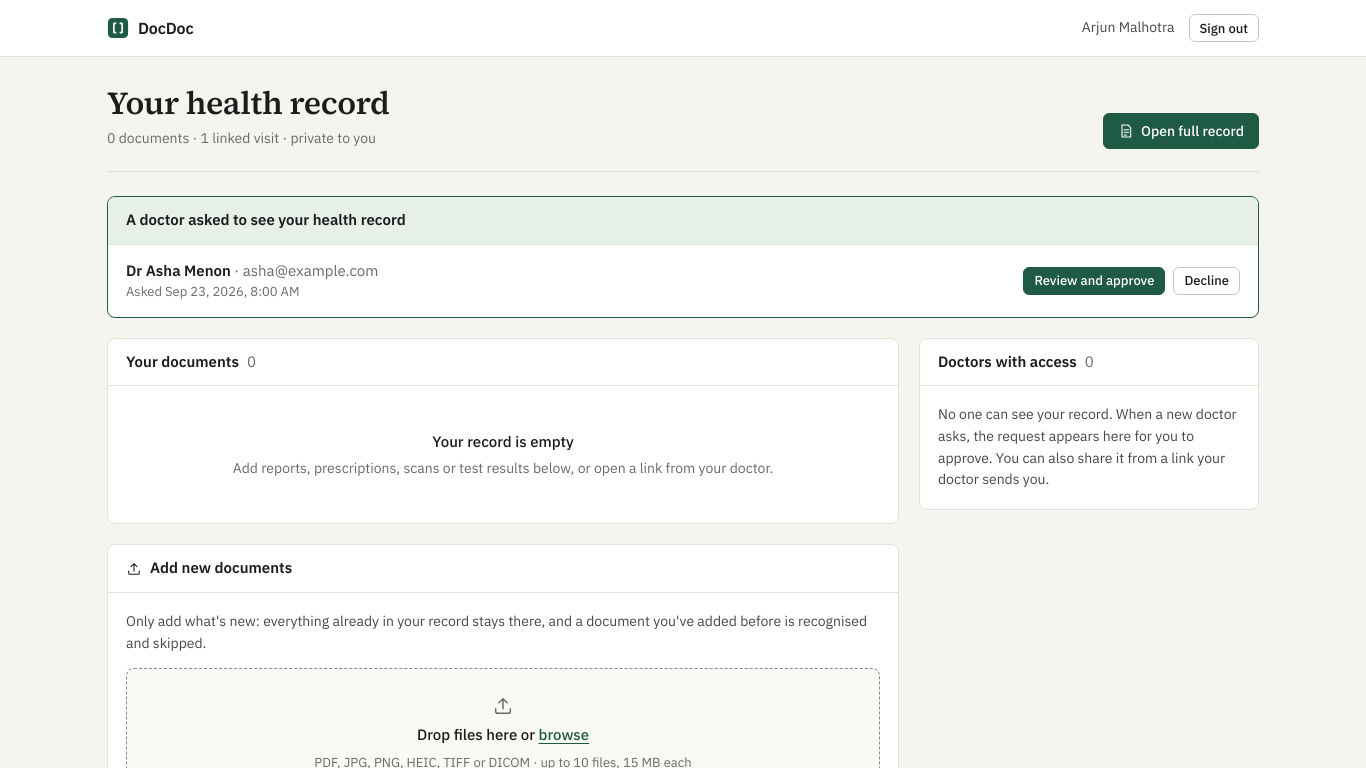
Test: patient dashboard › approving a doctor's request goes through a clear consent step
The image size is (1366, 768).
Click the button "Review and approve". click: (1094, 281)
box: [1023, 267, 1165, 295]
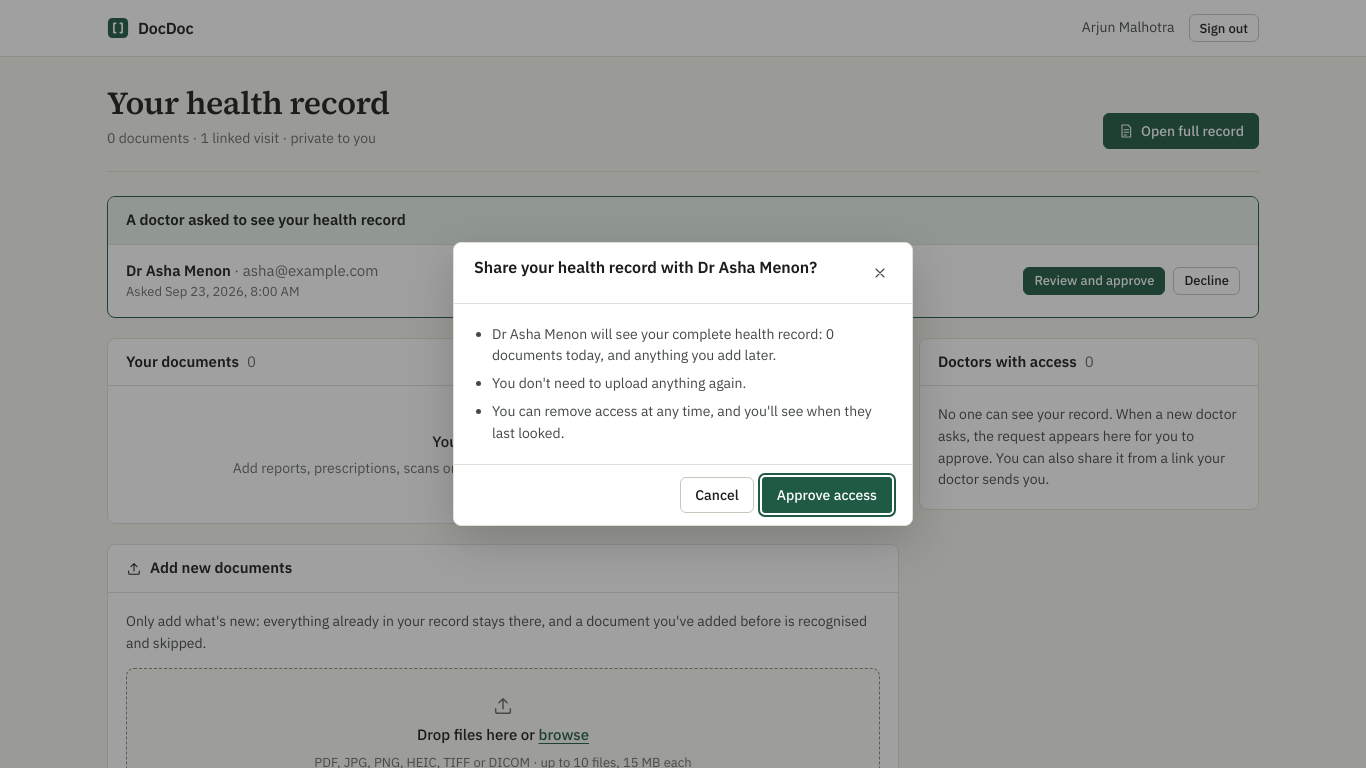
Result: the dialog "Share your health record with Dr Asha Menon?" shows "You can remove access at any time" at [492, 402, 872, 442]
Click the button "Approve access". click: (827, 495)
box: [762, 477, 892, 513]
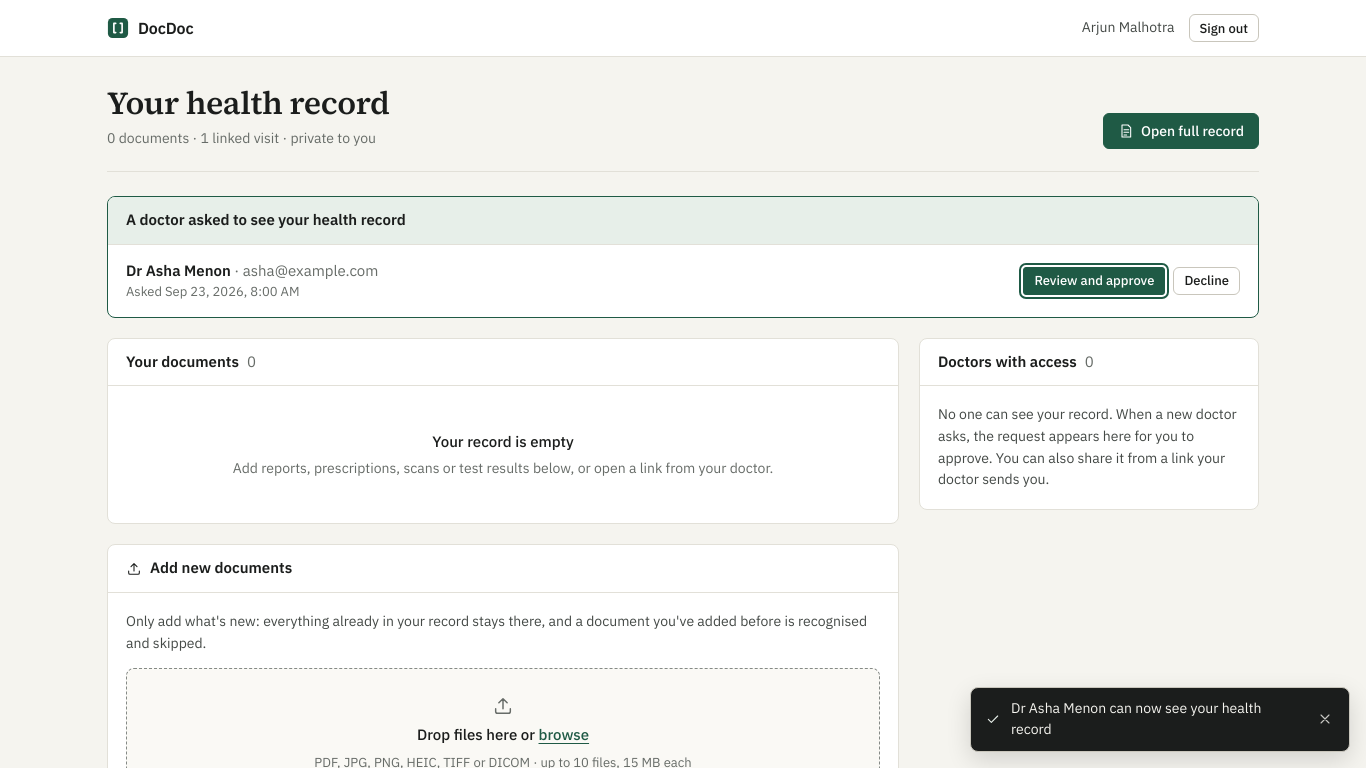
Result: the text "Dr Asha Menon can now see your health record" is shown at [1011, 698, 1299, 741]
